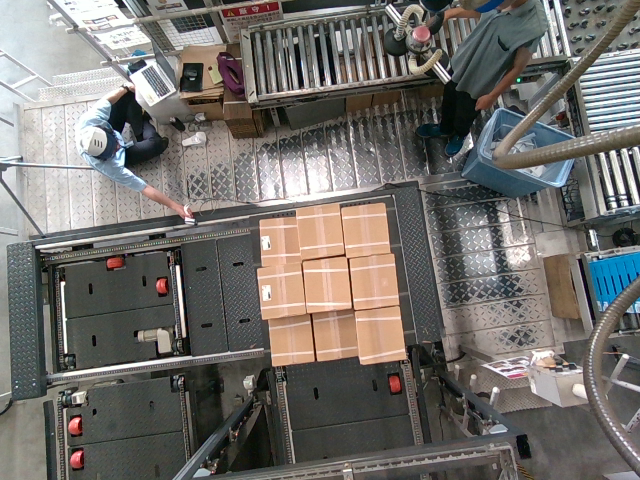box: (293, 203, 342, 258), (342, 202, 391, 257), (348, 254, 397, 309), (356, 307, 405, 362), (302, 255, 351, 310), (257, 265, 306, 320), (264, 312, 313, 367), (256, 217, 305, 272), (309, 305, 358, 360)
